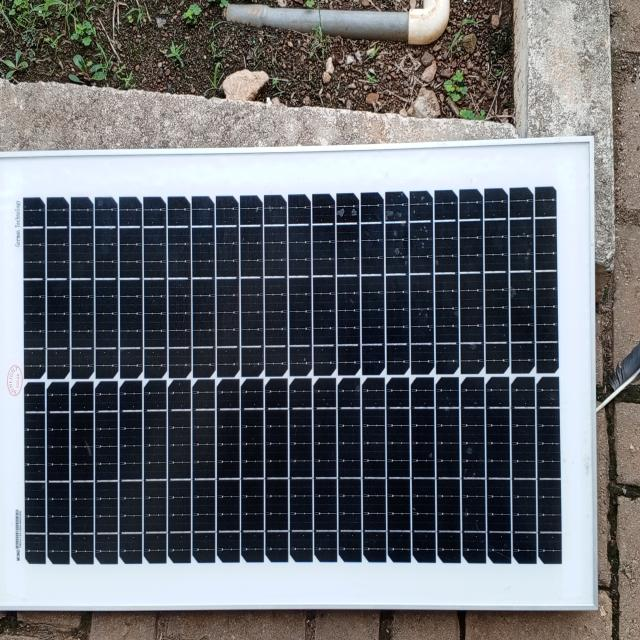Clean: (15, 183, 575, 593)
